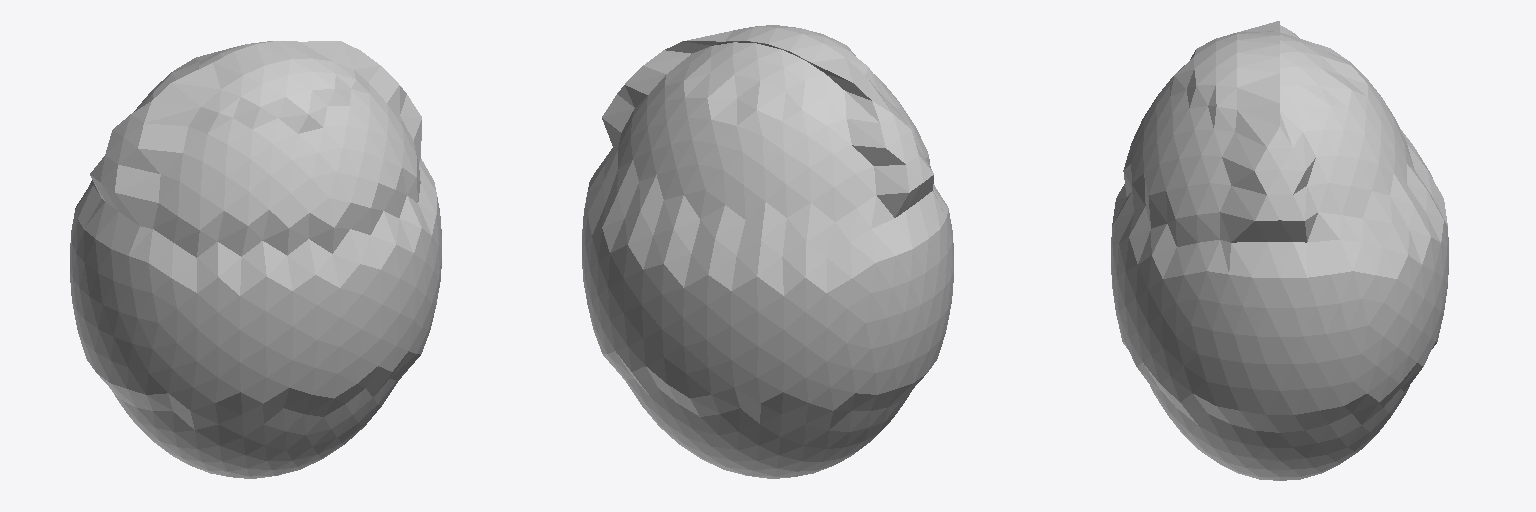
The model's file is muscular_baseline.obj.
3 renders of one model, left to right at view 1: azimuth 30°, elevation 25°; view 2: azimuth 150°, elevation 25°; view 3: azimuth 270°, elevation 25°, orthographic.
Size of the model in its own units: 1.41 by 1.72 by 1.25.